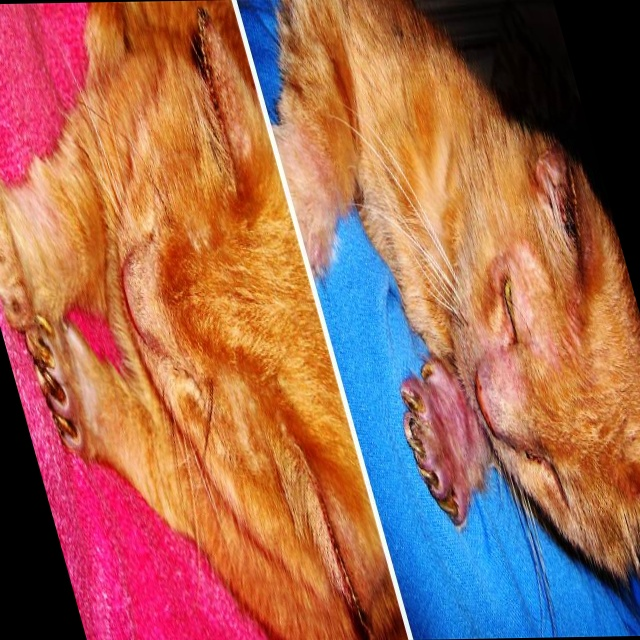ringworm: (419, 379, 491, 508), (506, 253, 572, 375)
